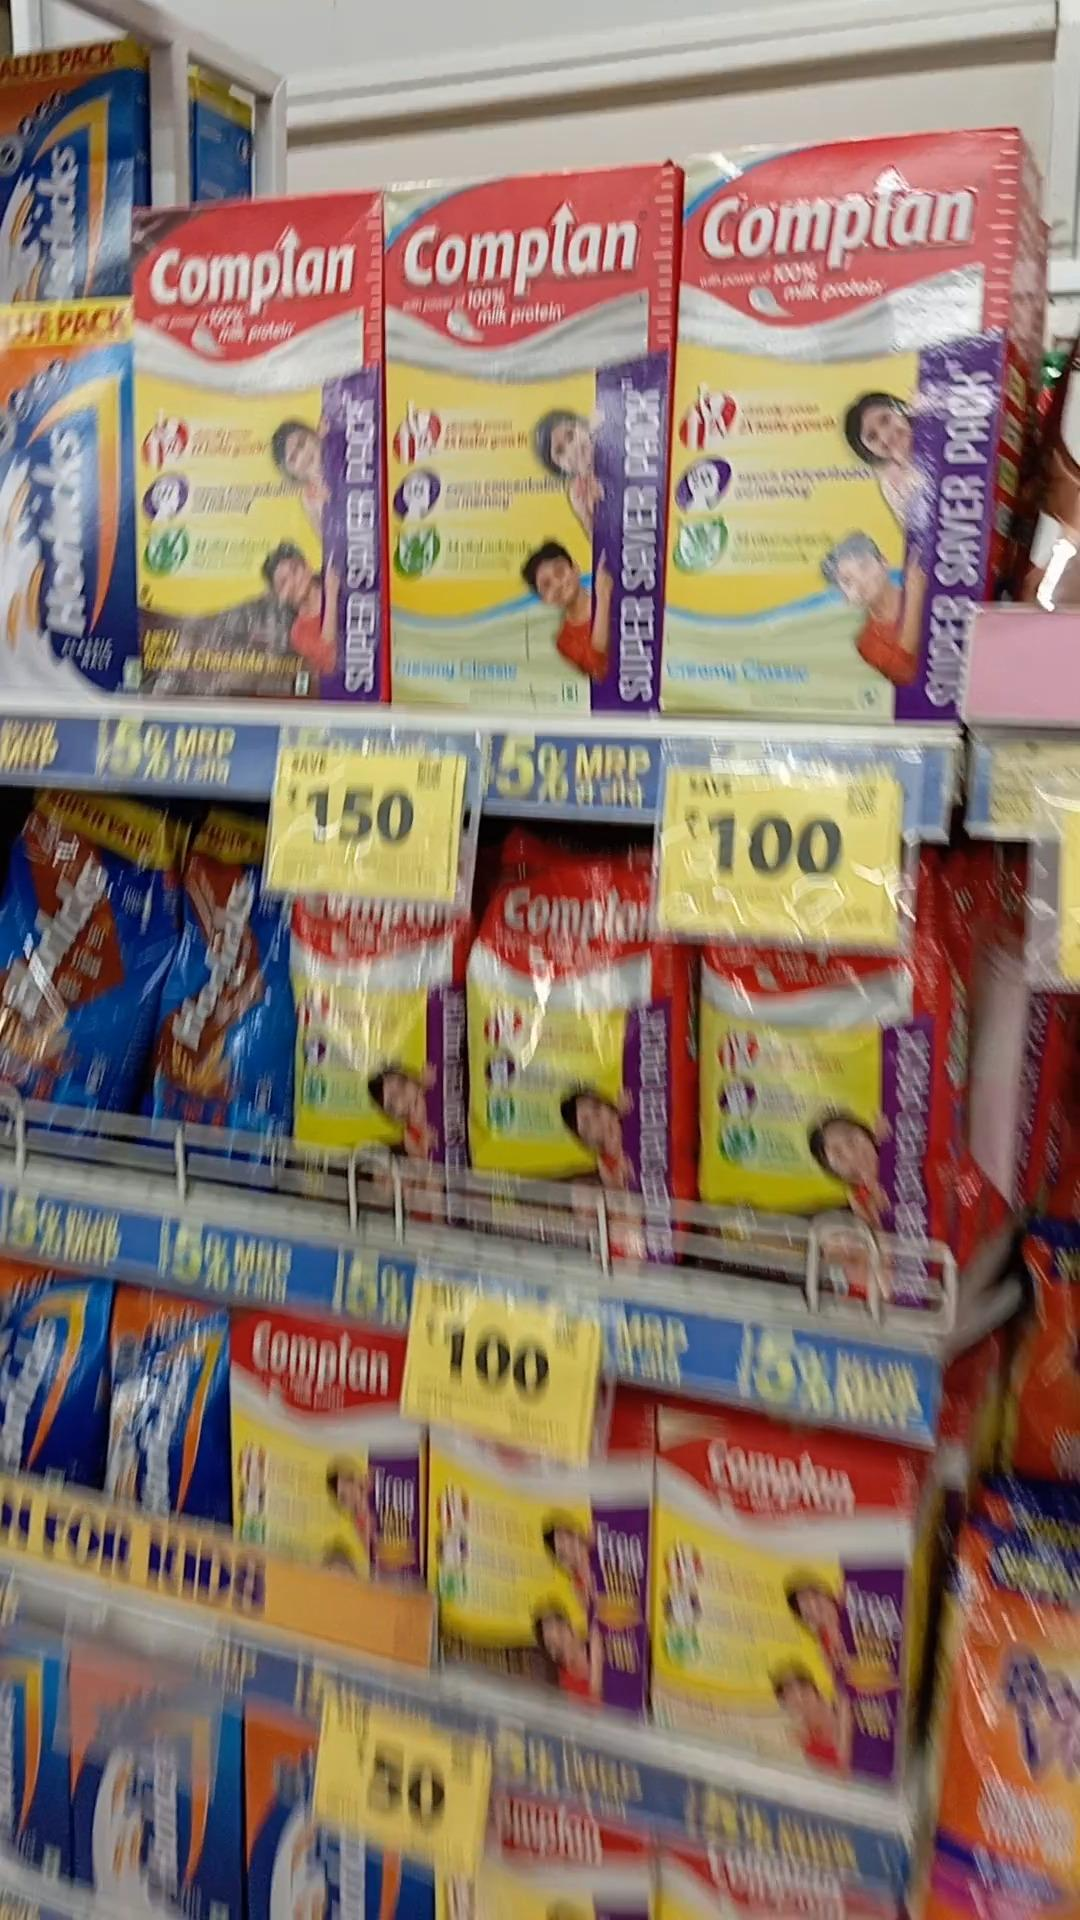COMPLAN_CHOCOLATE_1_KG_PACK: (669, 142, 998, 715), (388, 185, 663, 709), (148, 202, 381, 698)
COMPLAN_CHOCOLATE_500_GMS_PACK: (655, 1402, 918, 1782), (434, 1428, 647, 1702), (225, 1316, 417, 1572)
COMPLAN_RC_POUCH_700_GMS_12: (692, 943, 942, 1288), (479, 847, 682, 1247), (291, 894, 465, 1207)
